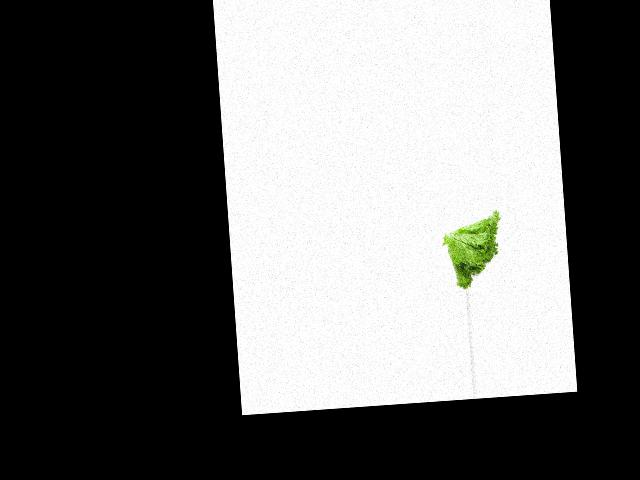lettuce: (442, 209, 506, 291)
